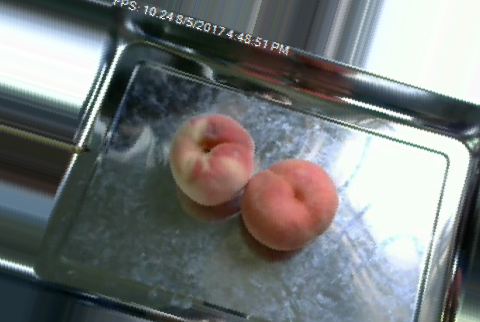Peach: (242, 158, 340, 251), (169, 112, 254, 207)
